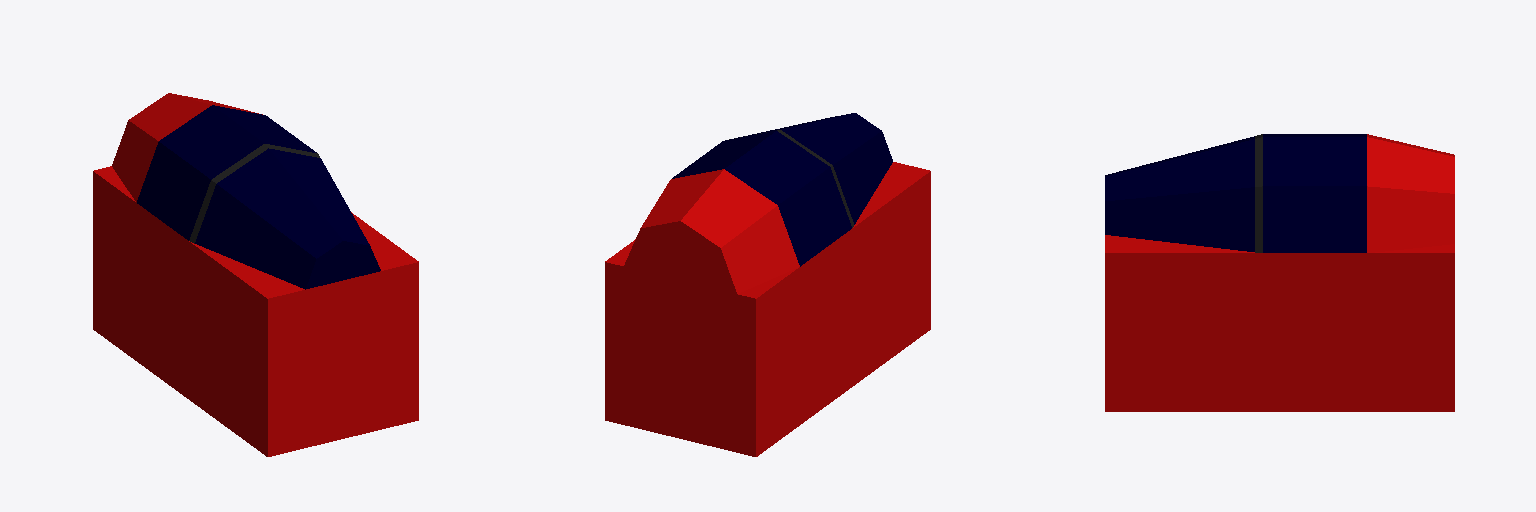
Rendered from Cockpit1_Cursor.obj.
3 views of the same model, side by side, from view 1: azimuth 30°, elevation 25°; view 2: azimuth 150°, elevation 25°; view 3: azimuth 270°, elevation 25° (orthographic).
Parts seen in each view (by area): view 1: Cube.002_Cube.000; view 2: Cube.002_Cube.000; view 3: Cube.002_Cube.000.
Boxes of the visible parts, <box> form: Cube.002_Cube.000: <box>93,93,418,456</box>; Cube.002_Cube.000: <box>605,113,930,456</box>; Cube.002_Cube.000: <box>1105,134,1454,411</box>.
Bounding box in the file's own units: 1 × 1.5 × 2.